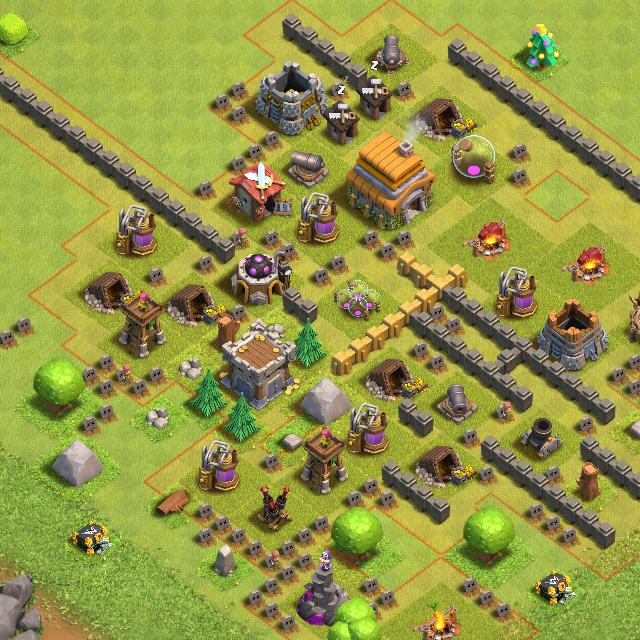Arqueira: (122, 292, 165, 357), (305, 429, 347, 490)
Canhao: (286, 147, 331, 188), (370, 34, 410, 73), (440, 382, 475, 423)
